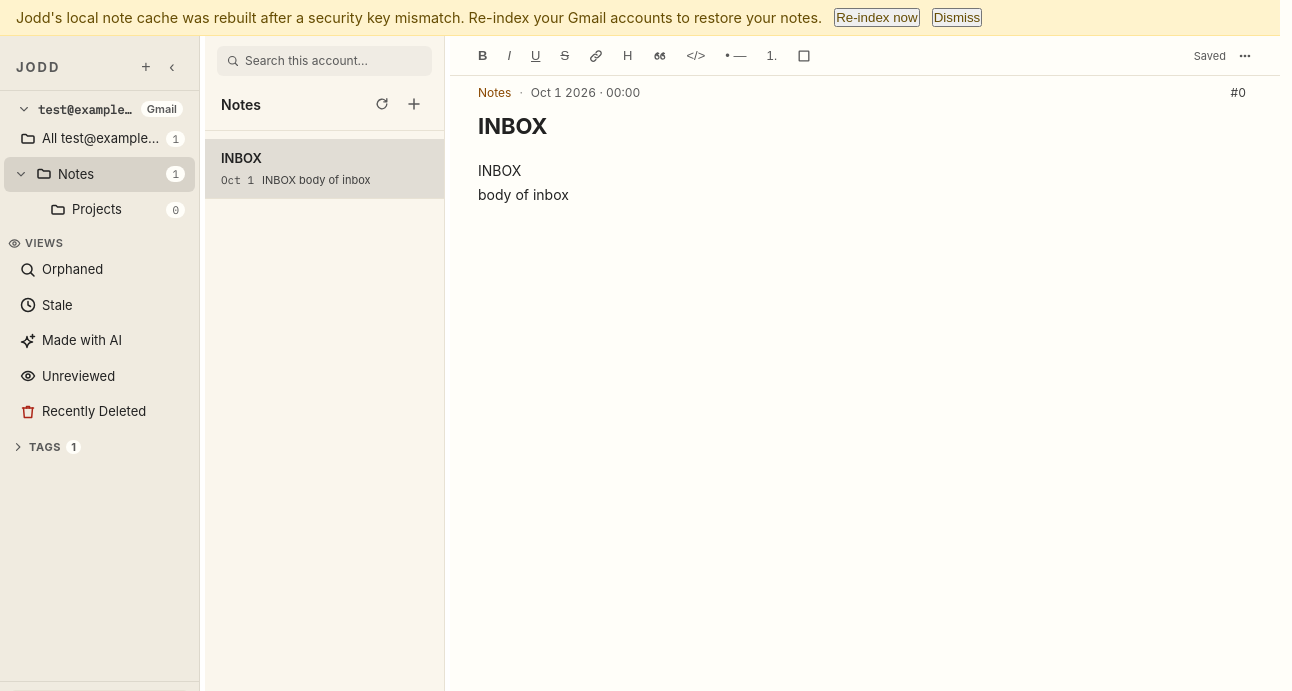
Scenario: App: picking a view opens its first note (desktop) › a Smart Folder not loaded yet opens its first note when its local read lands
The width and height of the screenshot is (1292, 691).
Expected: the text titled "Projects" is shown, top-left (72, 201), bottom-right (122, 217)
Click the button with class "folder-item" showing "Stale": (46, 305) top-left (20, 296), bottom-right (73, 313)
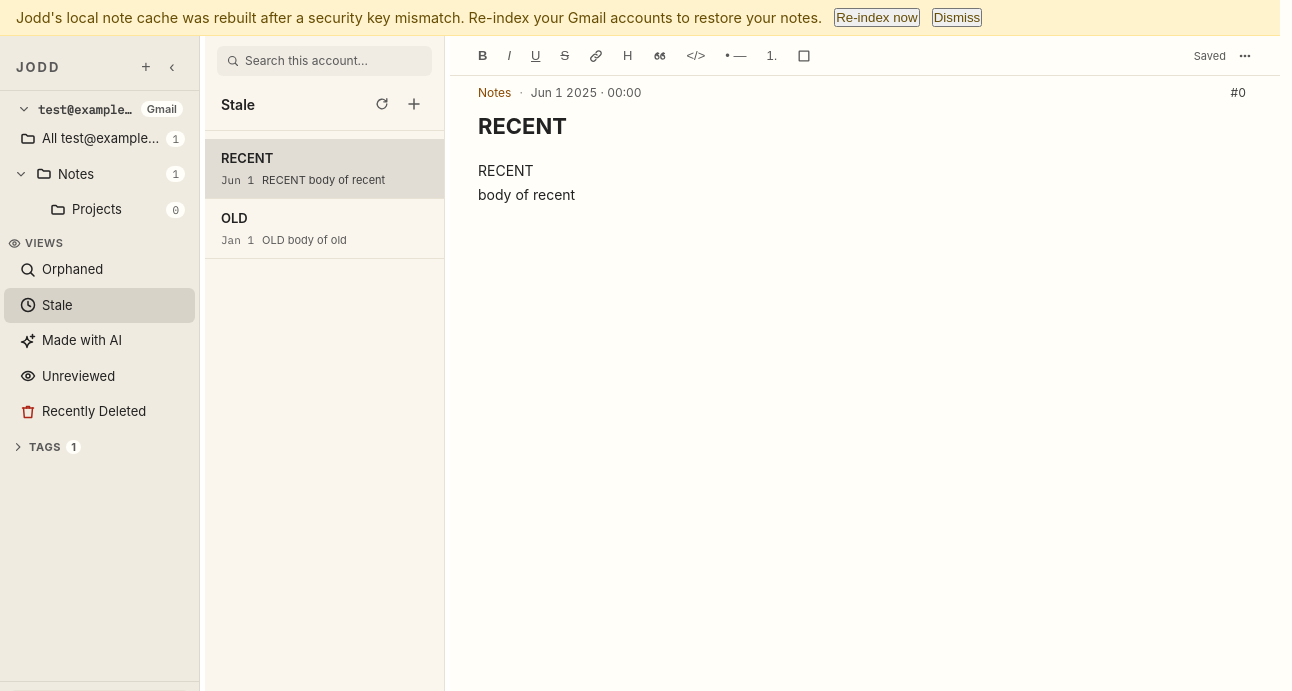
Now the text "RECENT" is shown, box top-left (221, 150), bottom-right (273, 166)
